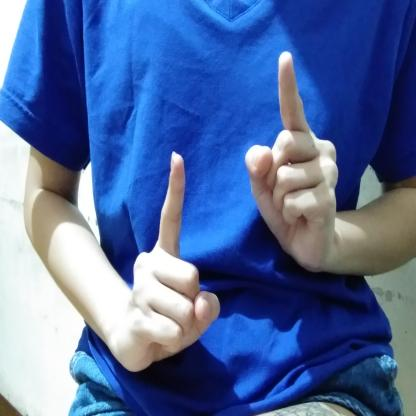morning: (126, 48, 343, 378)
